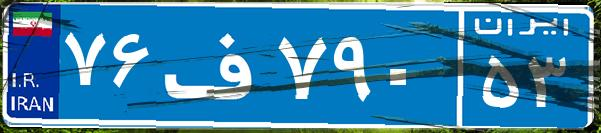0: (385, 28, 445, 110)
3: (525, 38, 570, 115)
5: (475, 38, 525, 113)
6: (110, 28, 158, 105)
7: (273, 28, 330, 110), (57, 26, 110, 107)
9: (330, 28, 385, 110)
ف: (158, 15, 273, 115)
